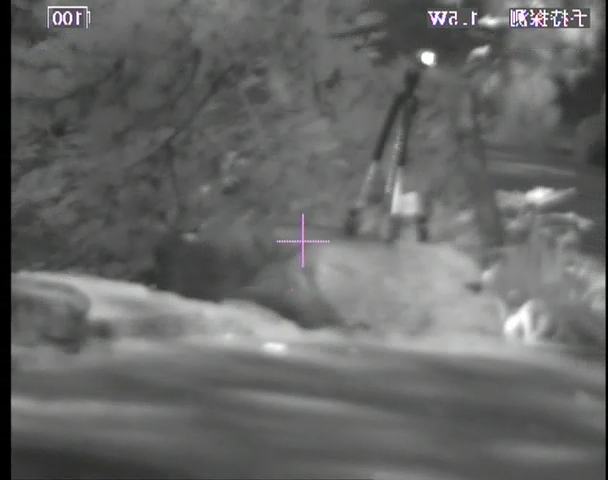my: (420, 50, 435, 67)
